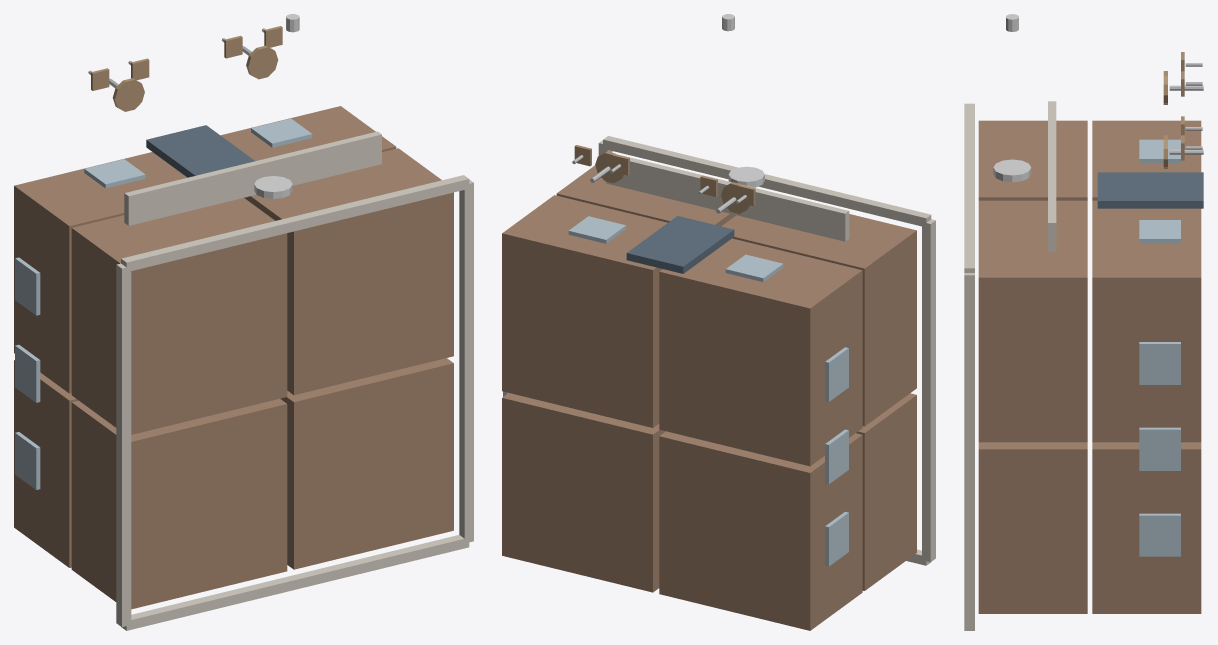
File: building-coffee-shop.glb
3 views of the same model, side by side, from view 1: azimuth 30°, elevation 25°; view 2: azimuth 150°, elevation 25°; view 3: azimuth 270°, elevation 25° (orthographic). The views are drawn at different scales.
Visible parts, largest first — view 1: world; view 2: world; view 3: world.
Part boxes in pixels (<box>): world: <box>14,14,473,630</box>; world: <box>502,14,935,630</box>; world: <box>964,14,1203,630</box>.
Size of the model in its own units: 10.56 by 15.76 by 6.32.
